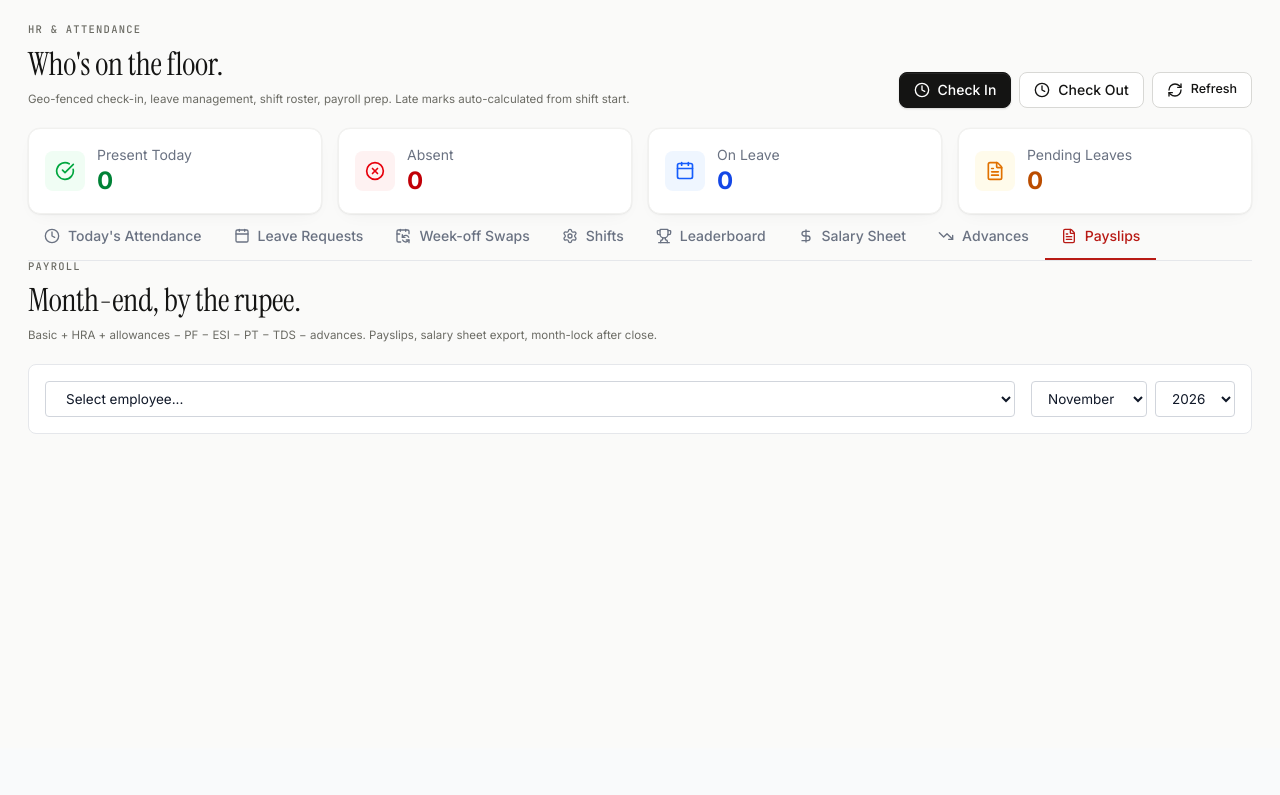
Scenario: each payroll section renders at its own URL inside the HR module › payslips: picking an employee loads the payslip for the picked month
Select "ZZ Priya Sheet" in the dropdown titled "Select employee for payslip". click: {"x": 530, "y": 399}
box: [45, 381, 1015, 417]
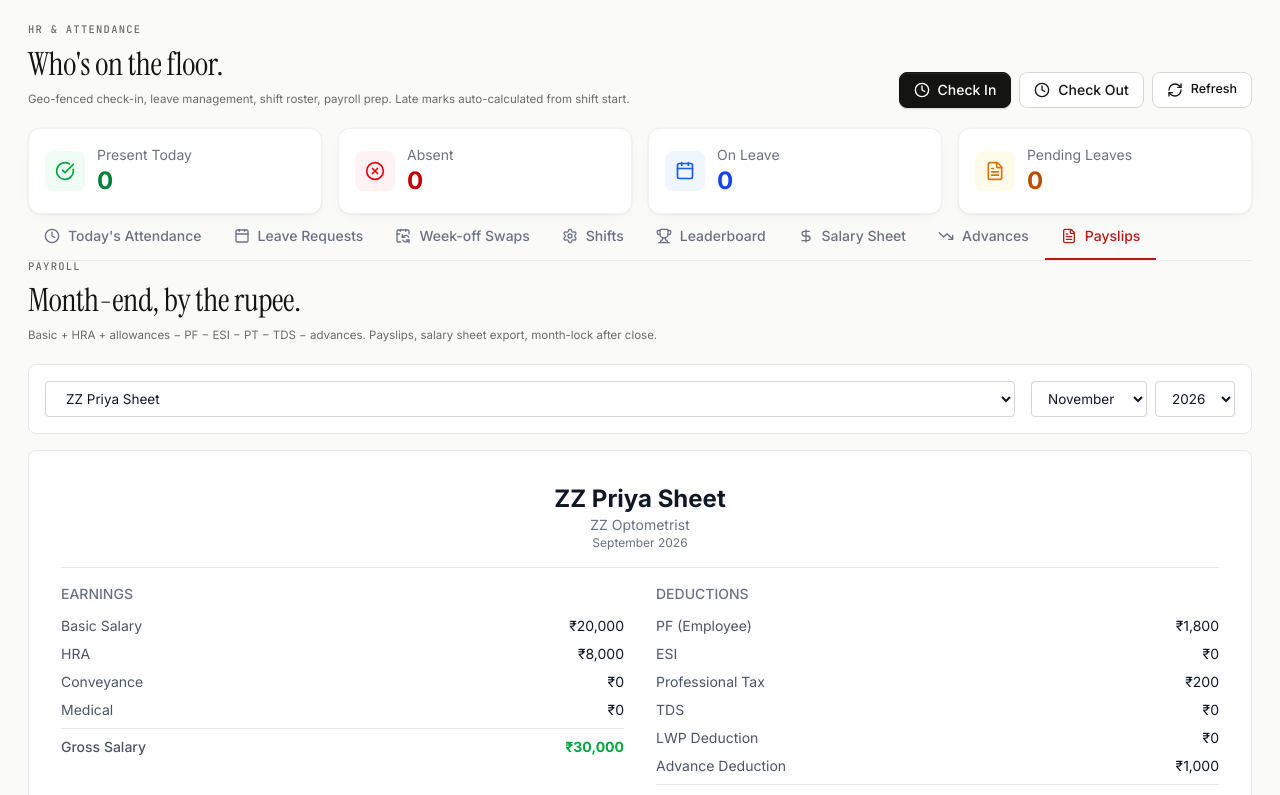
Check: the heading "EARNINGS" is shown, box [61, 585, 133, 602]
Check: the text "ZZ Optometrist" is shown, box [590, 516, 690, 533]
